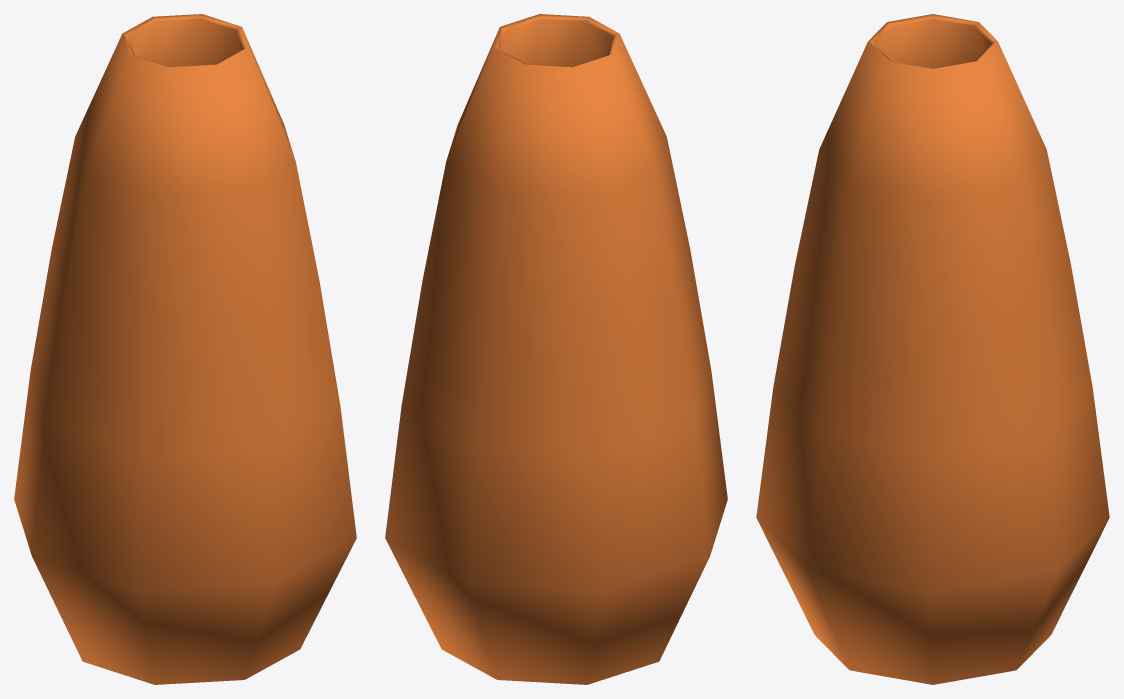
Rendered from Vase3.fbx.
The picture shows the model from 3 angles, left to right: view 1: azimuth 30°, elevation 25°; view 2: azimuth 150°, elevation 25°; view 3: azimuth 270°, elevation 25°; orthographic projection.
Parts seen in each view (by area): view 1: Cylinder.044; view 2: Cylinder.044; view 3: Cylinder.044.
Boxes of the visible parts, x1,y1,x2,y2 form: Cylinder.044: (14,14,356,684); Cylinder.044: (385,14,727,684); Cylinder.044: (756,14,1109,684).
Bounding box in the file's own units: 81.16 × 150 × 81.16.
